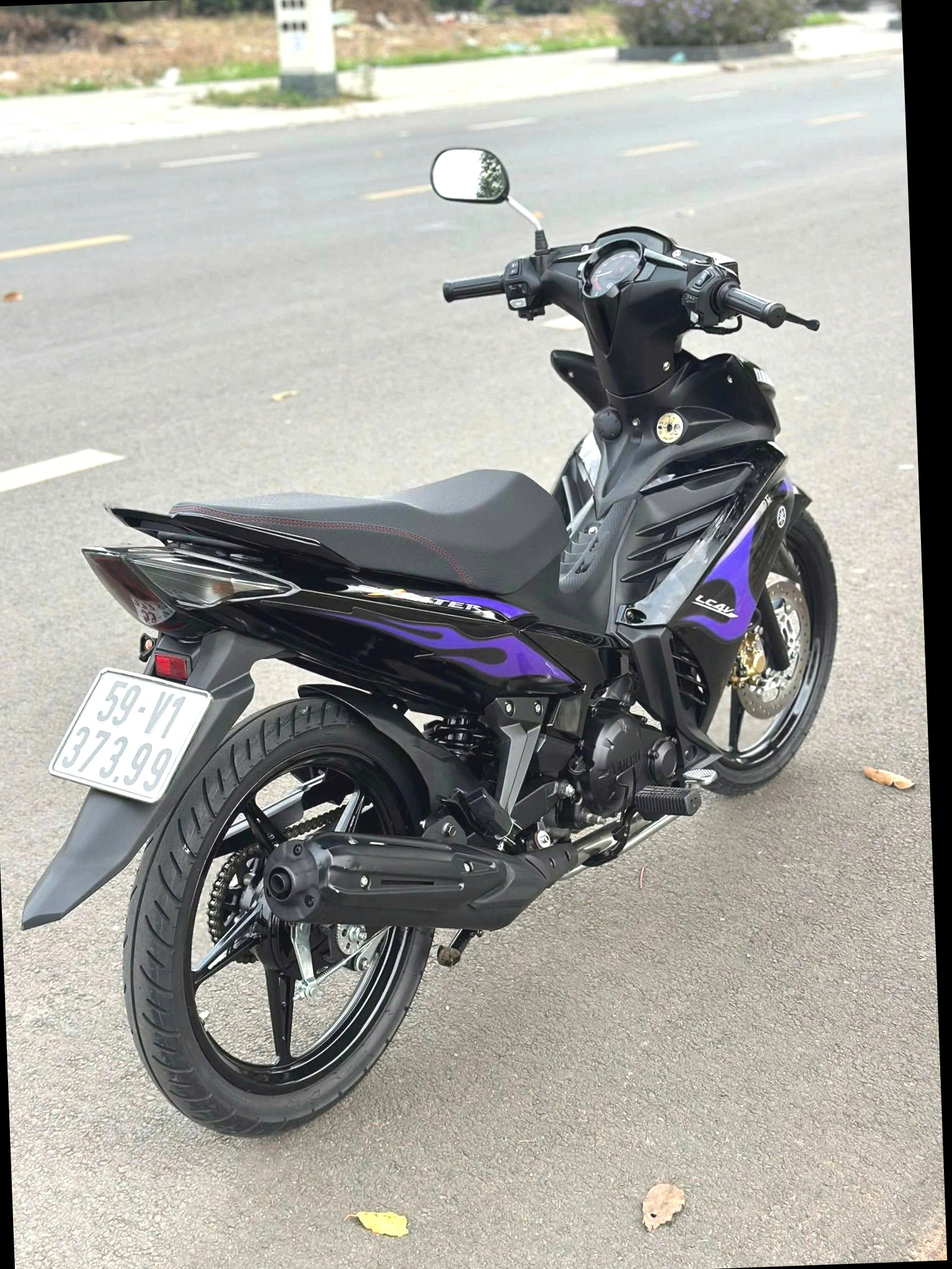Bien-so: (39, 664, 213, 810)
